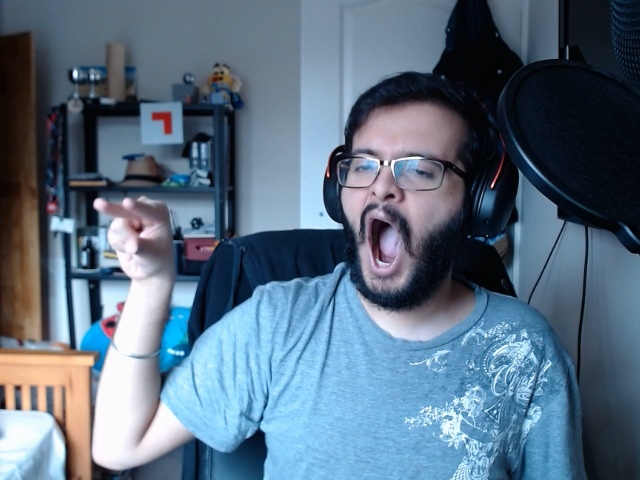No: (85, 175, 192, 291)
